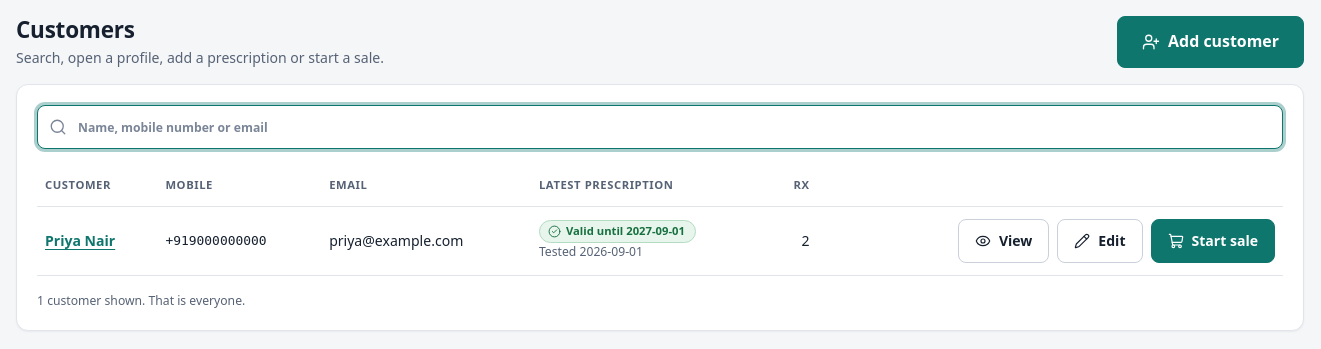
it: CustomersPage › searches on the server after a pause in typing, not by filtering what it already has
Check: the table is shown, box [37,165,1283,276]
In the search field named "search customers": (660, 127) [37,105,1283,149], type "zed"
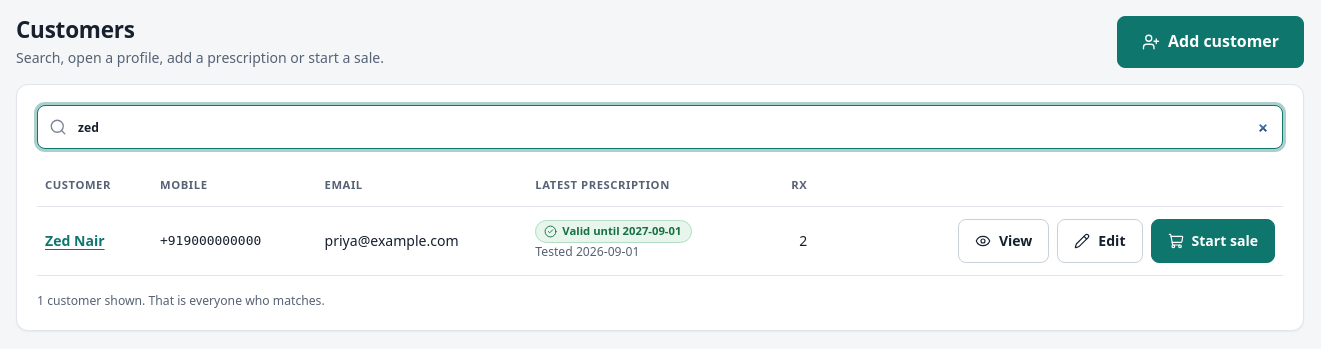
Check: the text "Zed Nair" is shown, box [45,231,104,250]
